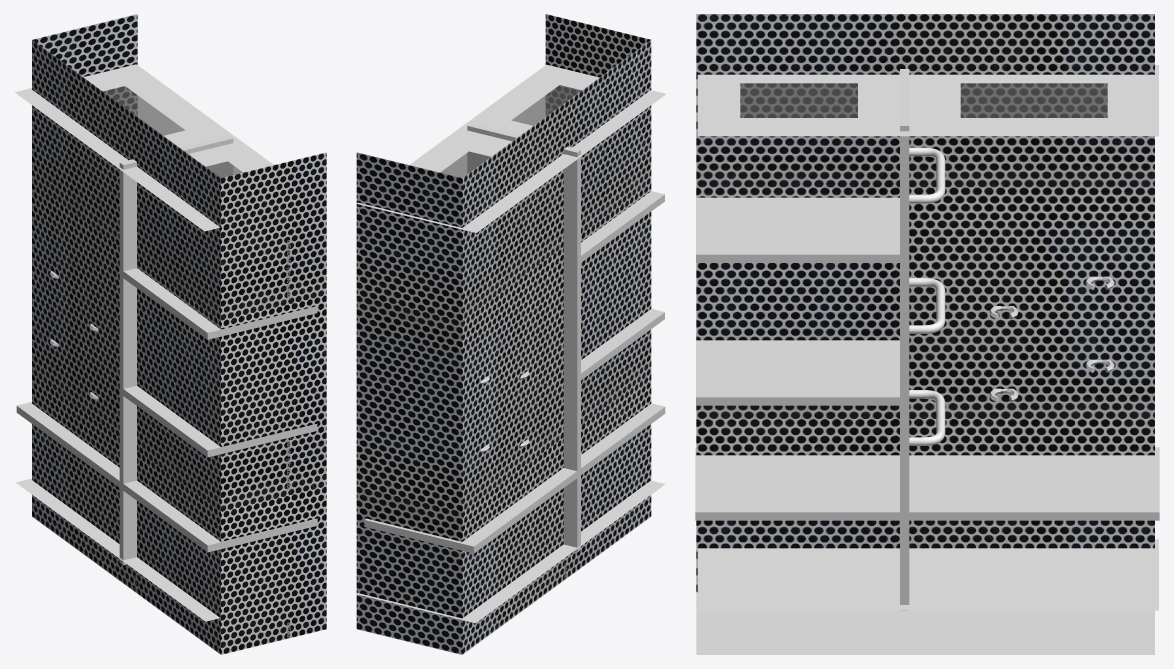
The model's file is Polka.fbx.
3 views of the same model, side by side, from view 1: azimuth 30°, elevation 25°; view 2: azimuth 150°, elevation 25°; view 3: azimuth 270°, elevation 25° (orthographic). The views are drawn at different scales.
Visible parts, largest first — view 1: Плоскость, desirefx.me_021.001, Куб, Куб.001, desirefx.me_021.002, Куб.002, Куб.003; view 2: Плоскость, desirefx.me_021.001, Куб, Куб.001, desirefx.me_021.002, Куб.003, Куб.002; view 3: Плоскость, Куб.001, desirefx.me_021.002, desirefx.me_021.001, Куб.003, Куб.002, Куб, desirefx.me_113.001.
Boxes of the visible parts, bbox=[...] form: Плоскость: bbox=[32, 14, 326, 654]; desirefx.me_021.001: bbox=[15, 64, 273, 231]; Куб: bbox=[119, 135, 233, 565]; Куб.001: bbox=[16, 402, 317, 552]; desirefx.me_021.002: bbox=[16, 478, 219, 621]; Куб.002: bbox=[120, 386, 317, 457]; Куб.003: bbox=[120, 268, 317, 339]; Плоскость: bbox=[356, 14, 651, 654]; desirefx.me_021.001: bbox=[356, 64, 665, 232]; Куб: bbox=[467, 123, 580, 552]; Куб.001: bbox=[364, 403, 665, 553]; desirefx.me_021.002: bbox=[356, 480, 665, 623]; Куб.003: bbox=[581, 191, 664, 262]; Куб.002: bbox=[581, 308, 664, 380]; Плоскость: bbox=[696, 14, 1154, 654]; Куб.001: bbox=[695, 447, 1159, 520]; desirefx.me_021.002: bbox=[697, 539, 1158, 610]; desirefx.me_021.001: bbox=[697, 65, 1158, 136]; Куб.003: bbox=[696, 190, 907, 262]; Куб.002: bbox=[696, 332, 901, 405]; Куб: bbox=[900, 69, 909, 610]; desirefx.me_113.001: bbox=[909, 147, 945, 445].
Bounding box in the file's own units: 4 × 15 × 10.91.
